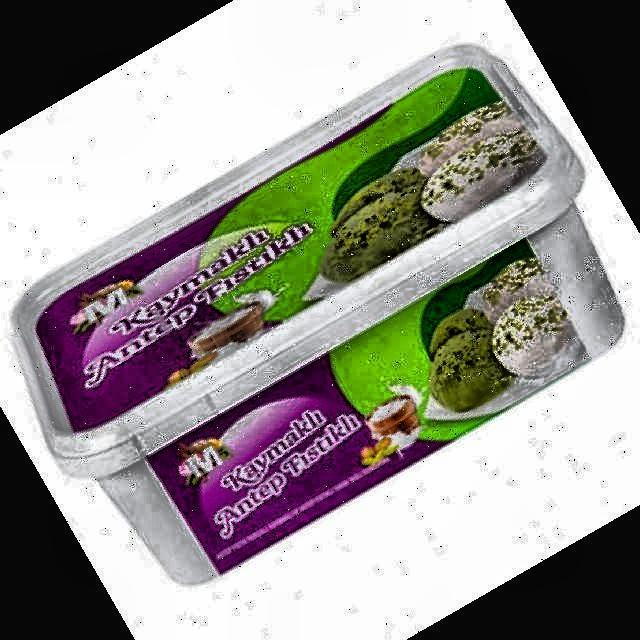plastic: (14, 45, 624, 583)
